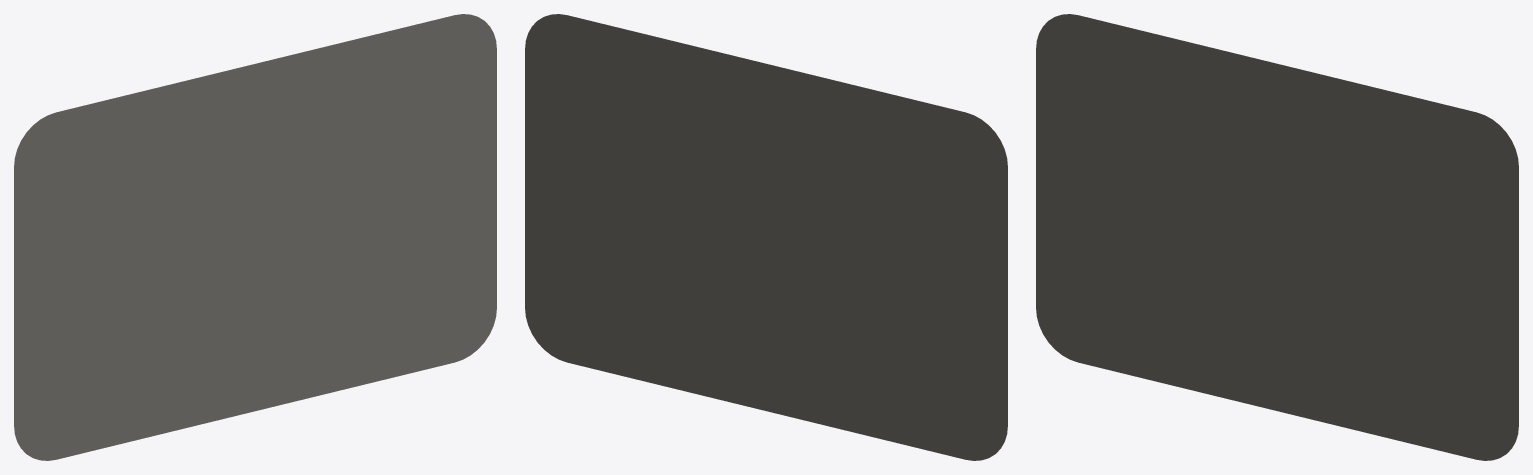
File: carriage_glass.glb
The picture shows the model from 3 angles, left to right: view 1: azimuth 30°, elevation 25°; view 2: azimuth 150°, elevation 25°; view 3: azimuth 330°, elevation 25°; orthographic projection.
Parts seen in each view (by area): view 1: carriage_glass; view 2: carriage_glass; view 3: carriage_glass.
Part boxes in pixels (<box>): carriage_glass: <box>14,14,496,460</box>; carriage_glass: <box>525,14,1007,460</box>; carriage_glass: <box>1036,14,1518,460</box>.
Size of the model in its own units: 0.8 by 0.55 by 0.
Materials: 1 (1 with a texture image).
